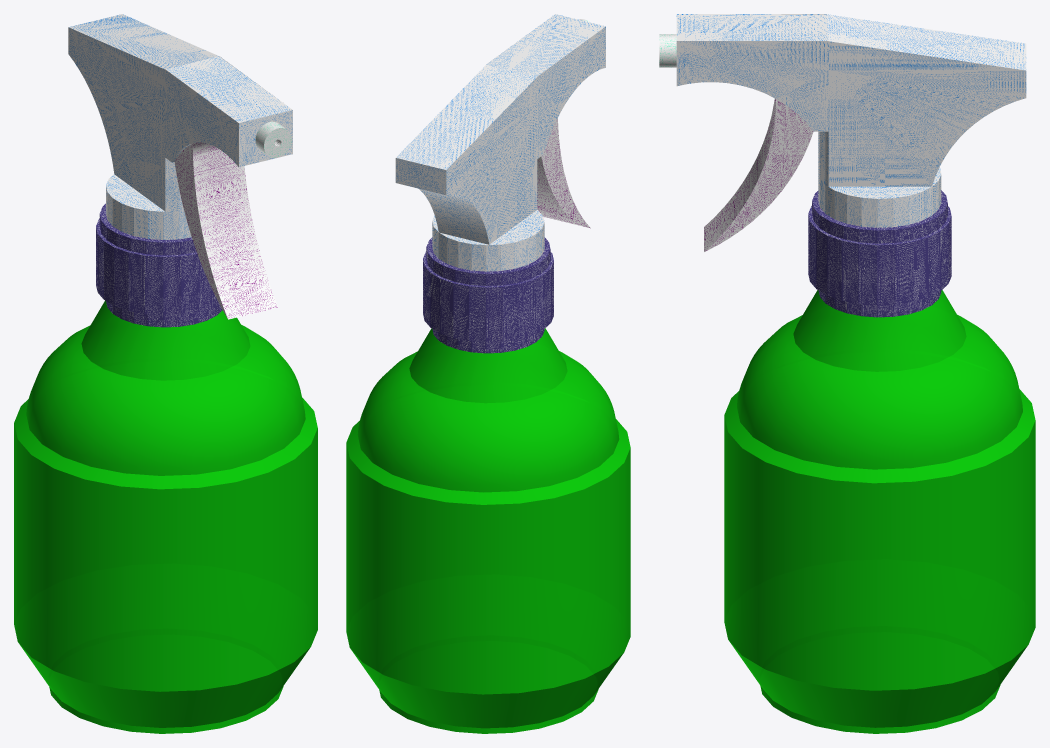
3 renders of one model, left to right at view 1: azimuth 30°, elevation 25°; view 2: azimuth 150°, elevation 25°; view 3: azimuth 270°, elevation 25°, orthographic. The views are drawn at different scales.
Visible parts, largest first — view 1: 3dw.9b9a4bb5550f00ea586350d6e78ecc7/Model/mesh1/mesh1-geome.009; view 2: 3dw.9b9a4bb5550f00ea586350d6e78ecc7/Model/mesh1/mesh1-geome.009; view 3: 3dw.9b9a4bb5550f00ea586350d6e78ecc7/Model/mesh1/mesh1-geome.009.
Part boxes in pixels (left/top/right/bottom): 3dw.9b9a4bb5550f00ea586350d6e78ecc7/Model/mesh1/mesh1-geome.009: left=14, top=14, right=317, bottom=733; 3dw.9b9a4bb5550f00ea586350d6e78ecc7/Model/mesh1/mesh1-geome.009: left=346, top=14, right=630, bottom=733; 3dw.9b9a4bb5550f00ea586350d6e78ecc7/Model/mesh1/mesh1-geome.009: left=659, top=14, right=1035, bottom=733.
Size of the model in its own units: 0.7029 by 1.63 by 0.8497.
